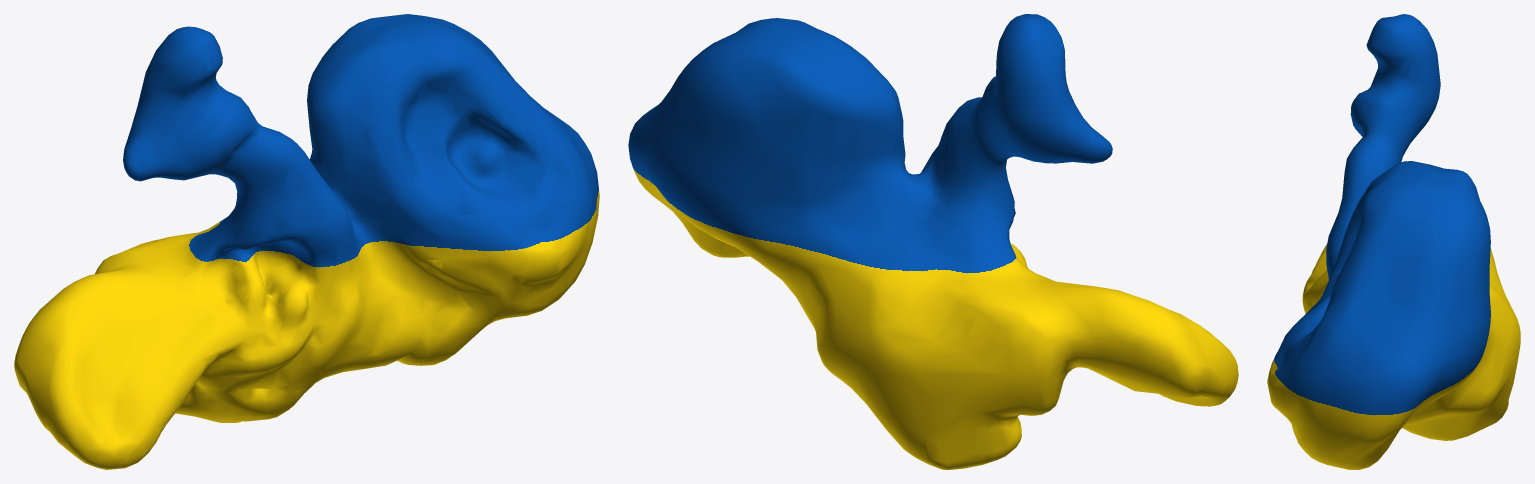
The picture shows the model from 3 angles, left to right: view 1: azimuth 30°, elevation 25°; view 2: azimuth 150°, elevation 25°; view 3: azimuth 270°, elevation 25°; orthographic projection. The views are drawn at different scales.
Parts seen in each view (by area): view 1: model:Mesh; view 2: model:Mesh; view 3: model:Mesh.
Part boxes in pixels (bbox=[...]): model:Mesh: bbox=[14, 14, 599, 469]; model:Mesh: bbox=[628, 14, 1238, 469]; model:Mesh: bbox=[1267, 14, 1520, 469].
Size of the model in its own units: 0.0807 by 0.0575 by 0.0336.
Materials: 1 (1 with a texture image).
